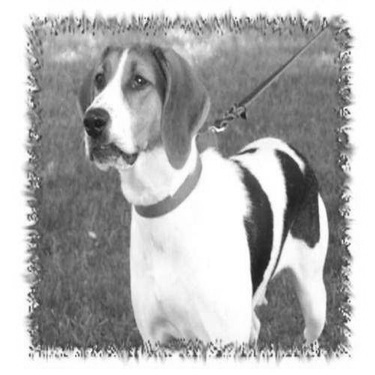dog: (71, 36, 334, 354)
